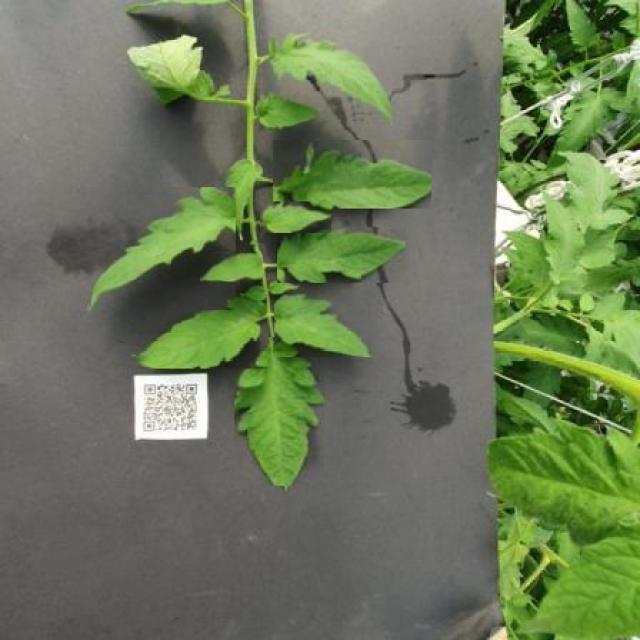Healthy: (88, 188, 235, 311), (234, 337, 324, 486), (268, 30, 392, 121), (273, 141, 431, 209), (136, 295, 267, 369), (277, 227, 406, 283), (275, 294, 372, 357), (261, 201, 332, 233), (200, 252, 262, 282)
